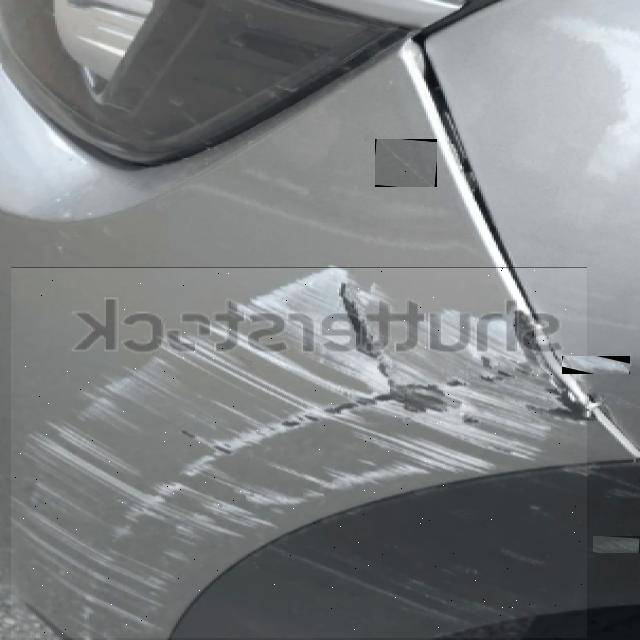Scratch: (11, 268, 586, 637), (271, 463, 421, 489), (376, 139, 433, 186), (564, 356, 628, 373), (500, 548, 542, 565), (593, 538, 638, 552)
